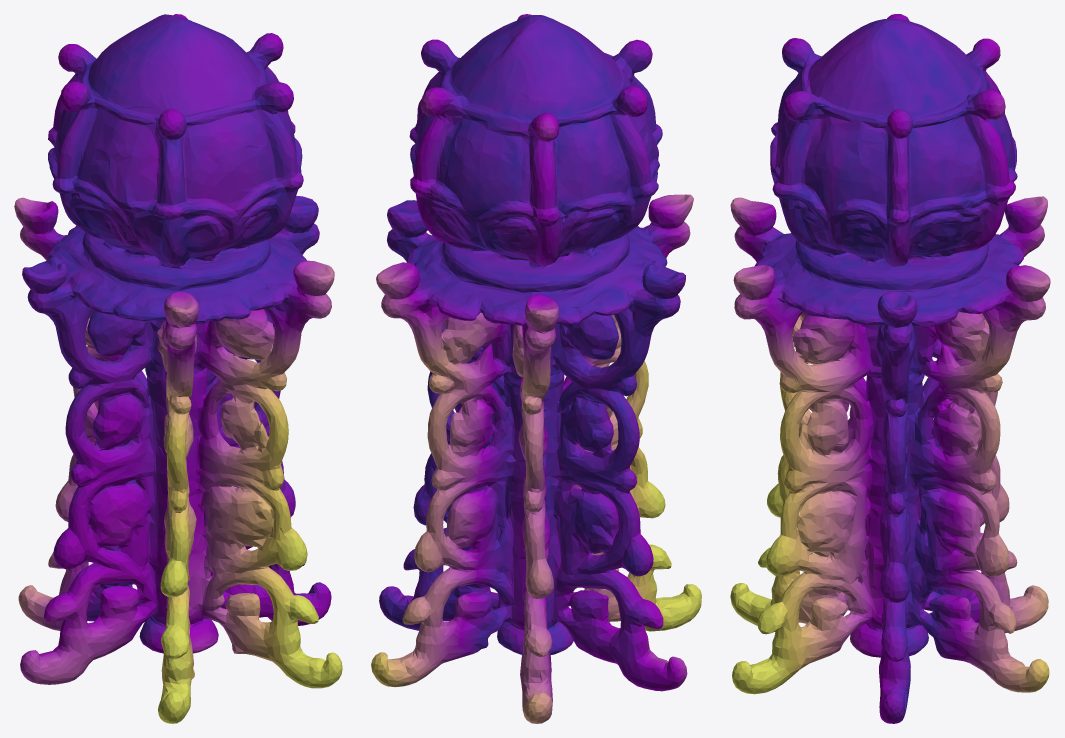
The model's file is iter_17.glb.
The picture shows the model from 3 angles, left to right: view 1: azimuth 30°, elevation 25°; view 2: azimuth 150°, elevation 25°; view 3: azimuth 270°, elevation 25°; orthographic projection.
Visible parts, largest first — view 1: textured_mesh; view 2: textured_mesh; view 3: textured_mesh.
Part boxes in pixels (x1=…): textured_mesh: x1=14, y1=14, x2=342, y2=723; textured_mesh: x1=371, y1=14, x2=701, y2=723; textured_mesh: x1=730, y1=14, x2=1050, y2=723.
Size of the model in its own units: 1 by 1.99 by 0.9065.
